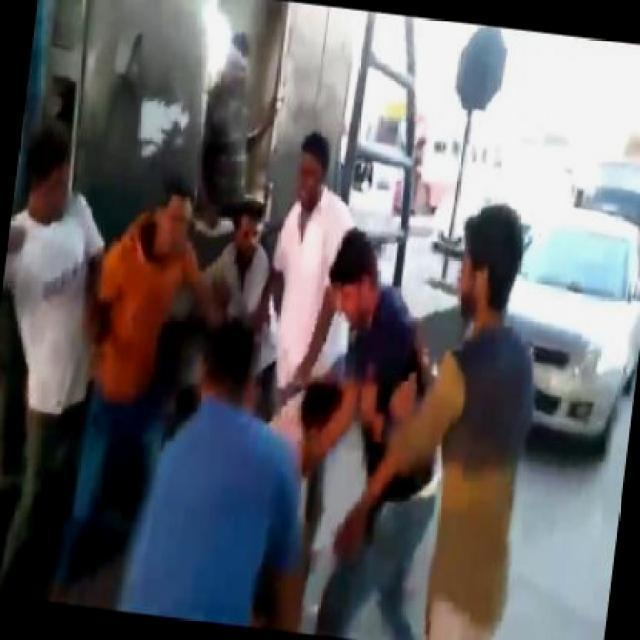fight: (249, 218, 423, 452), (88, 166, 277, 334)
